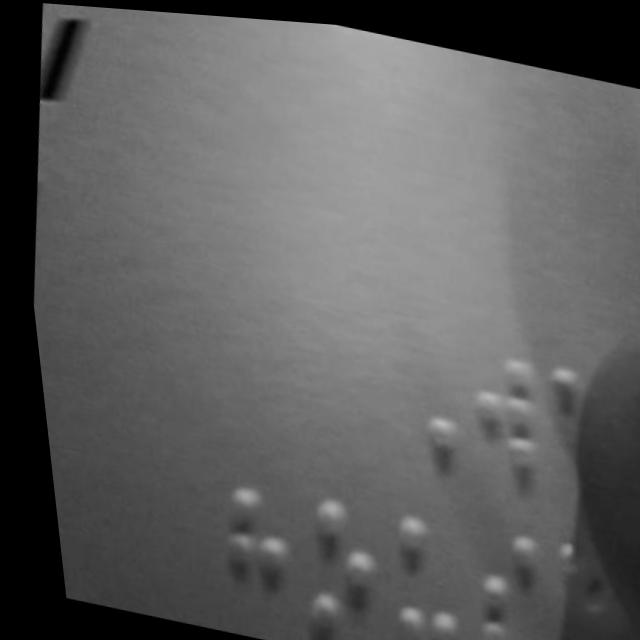braiile: (193, 473, 302, 640), (276, 488, 378, 640), (358, 501, 467, 640), (446, 333, 545, 480), (443, 512, 546, 640), (520, 524, 620, 640)
